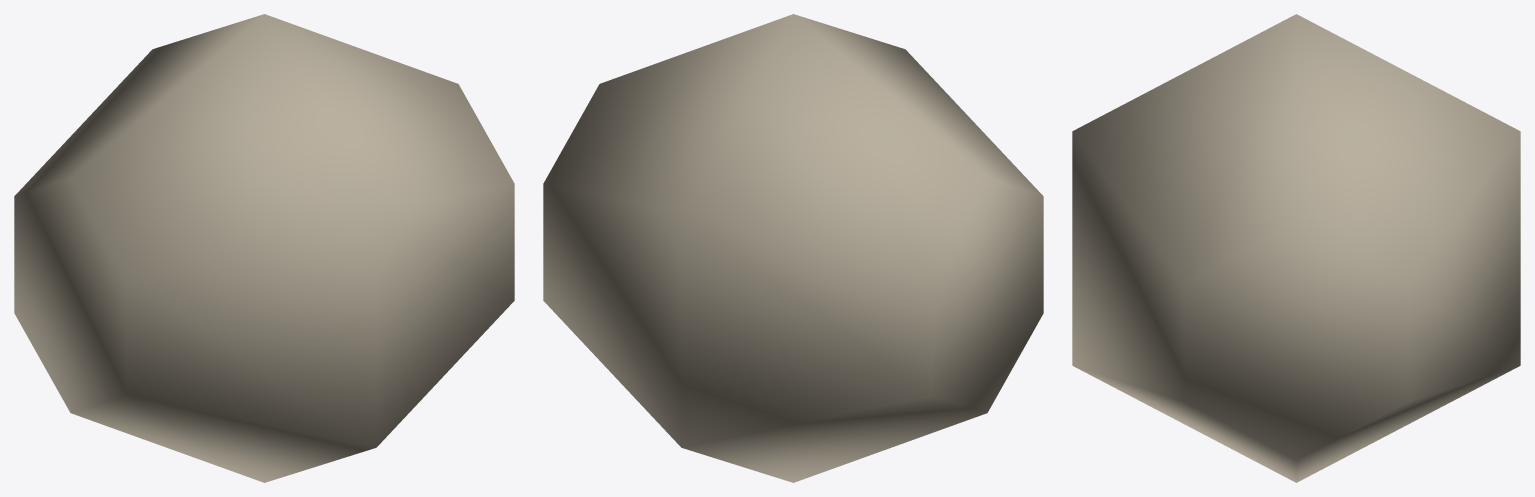
Rendered from original-33.obj.
3 renders of one model, left to right at view 1: azimuth 30°, elevation 25°; view 2: azimuth 150°, elevation 25°; view 3: azimuth 270°, elevation 25°, orthographic.
Parts seen in each view (by area): view 1: Group34/mesh31/mesh31-geometry#mesh31-geometry; view 2: Group34/mesh31/mesh31-geometry#mesh31-geometry; view 3: Group34/mesh31/mesh31-geometry#mesh31-geometry.
Boxes of the visible parts, left/top/right/bottom form: Group34/mesh31/mesh31-geometry#mesh31-geometry: left=14, top=14, right=514, bottom=482; Group34/mesh31/mesh31-geometry#mesh31-geometry: left=543, top=14, right=1043, bottom=482; Group34/mesh31/mesh31-geometry#mesh31-geometry: left=1072, top=14, right=1520, bottom=482.
Bounding box in the file's own units: 0.0201 × 0.0232 × 0.0201.
